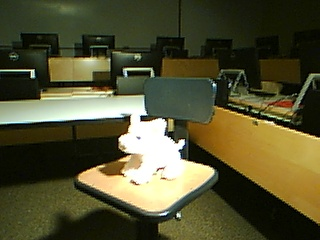piggy: (117, 112, 187, 186)
